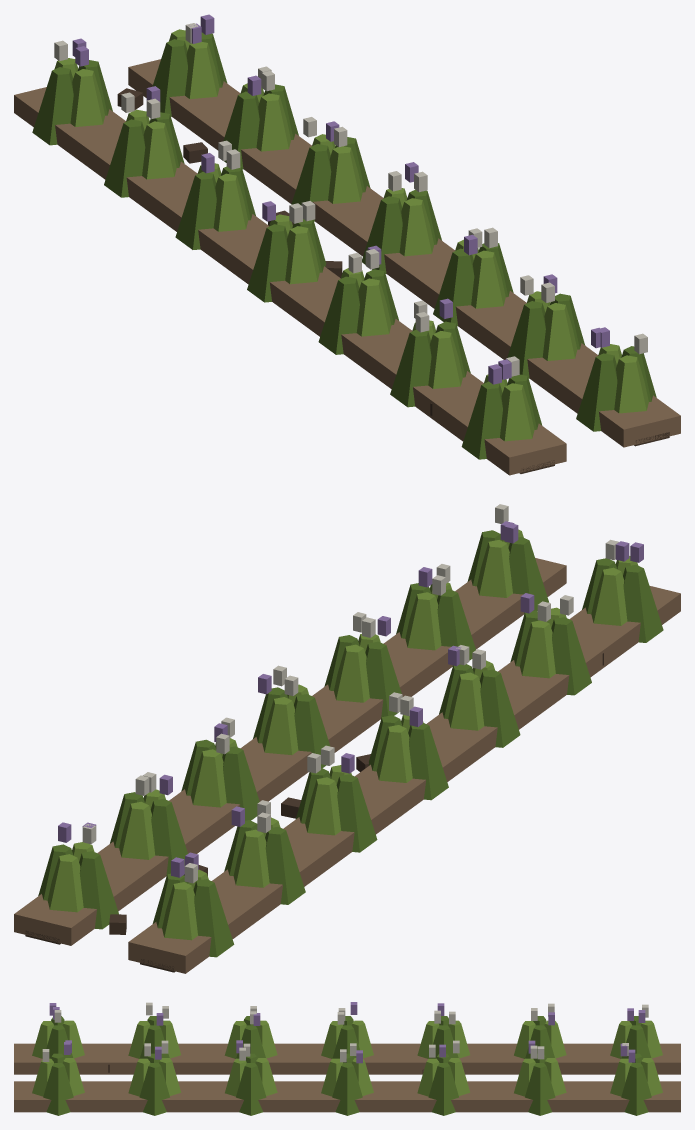
File: crop_herbs_4.glb
3 renders of one model, top to bottom at view 1: azimuth 30°, elevation 25°; view 2: azimuth 150°, elevation 25°; view 3: azimuth 270°, elevation 25°, orthographic. The views are drawn at different scales.
Visible parts, largest first — view 1: room_crop_herbs_4; view 2: room_crop_herbs_4; view 3: room_crop_herbs_4.
Boxes of the visible parts, <box> form: room_crop_herbs_4: <box>14,14,680,475</box>; room_crop_herbs_4: <box>14,504,680,973</box>; room_crop_herbs_4: <box>14,1002,680,1115</box>.
Bounding box in the file's own units: 0.6627 × 0.285 × 3.
